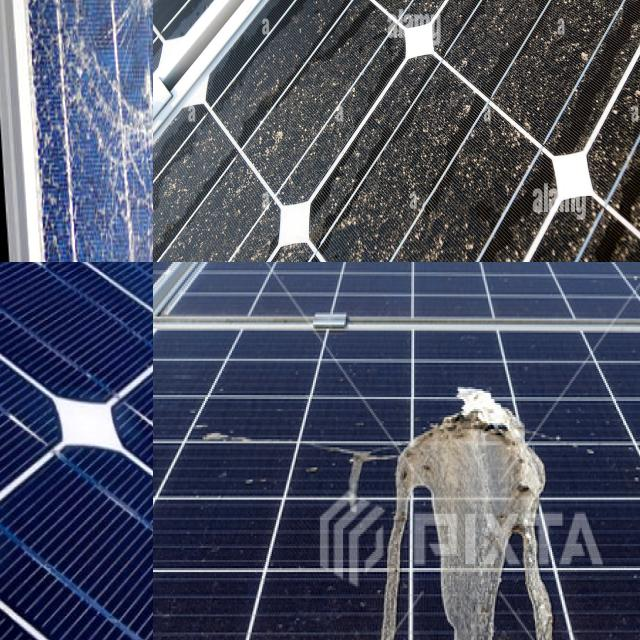bird: (370, 383, 566, 640)
crack: (0, 262, 153, 640)
dust: (338, 113, 484, 262), (260, 0, 347, 186), (478, 0, 594, 100), (153, 159, 242, 262), (370, 0, 474, 62), (579, 0, 640, 82)
hotspot: (88, 0, 153, 112), (117, 176, 153, 262)
